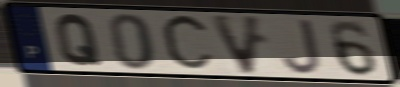0: (106, 11, 158, 72)
6: (327, 18, 379, 78)
C: (158, 11, 217, 75)
J: (280, 17, 324, 77)
Q: (53, 12, 104, 68)
V: (206, 12, 265, 77)
